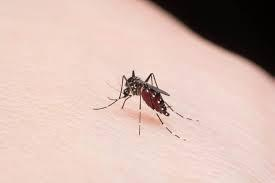insect: (90, 64, 203, 146)
